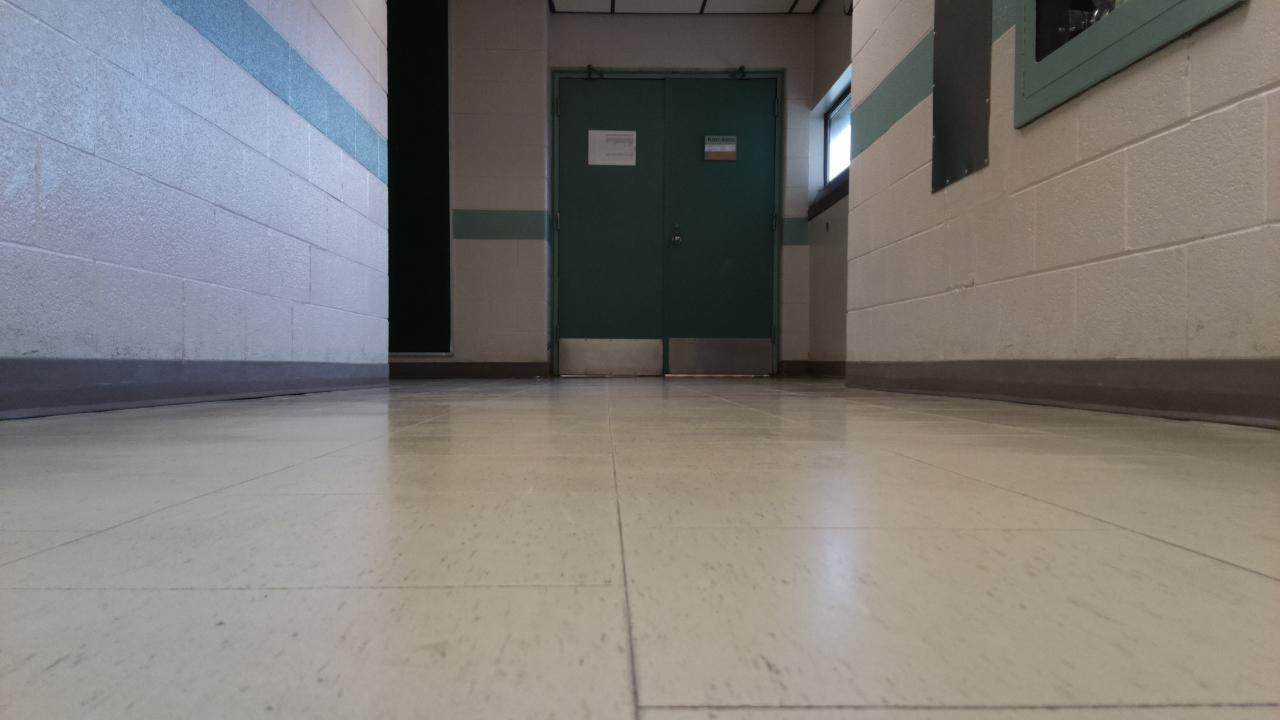door: (558, 77, 776, 376)
sign: (705, 135, 735, 158)
